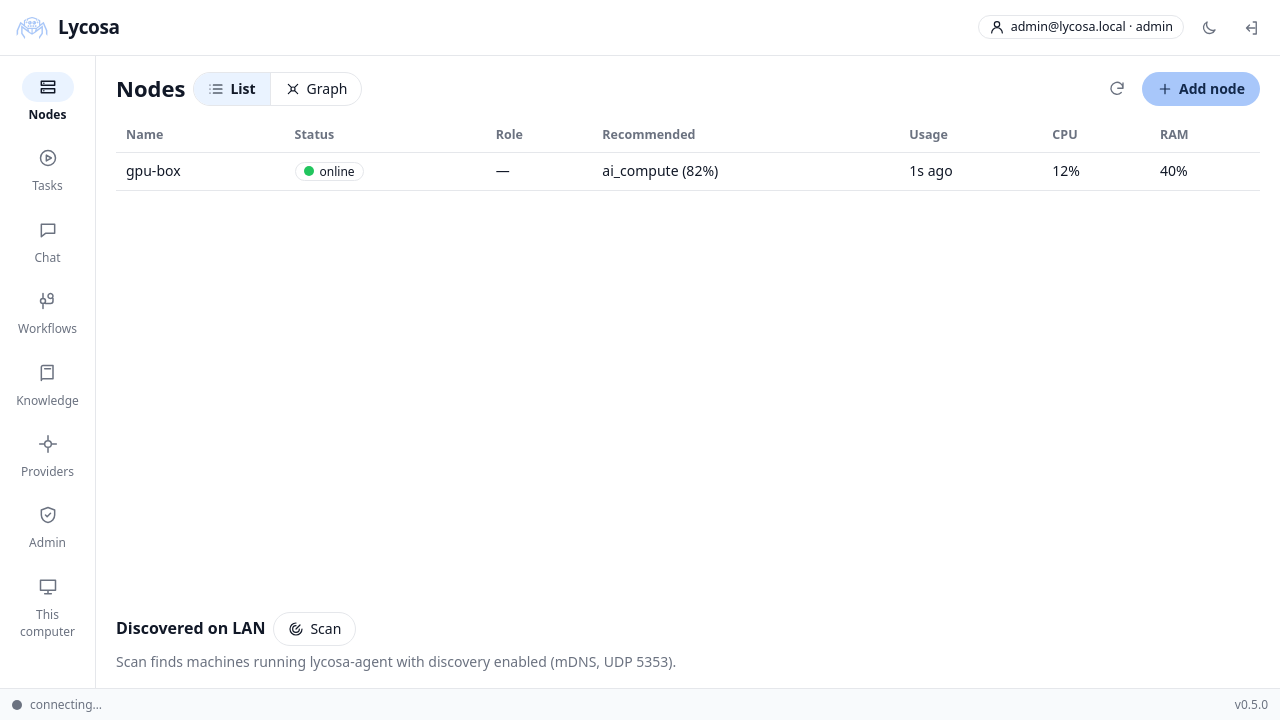
Scenario: nodes › deletes a node after confirmation (admin only)
The width and height of the screenshot is (1280, 720).
Click the text "gpu-box". click: (200, 172)
box: [116, 153, 284, 190]
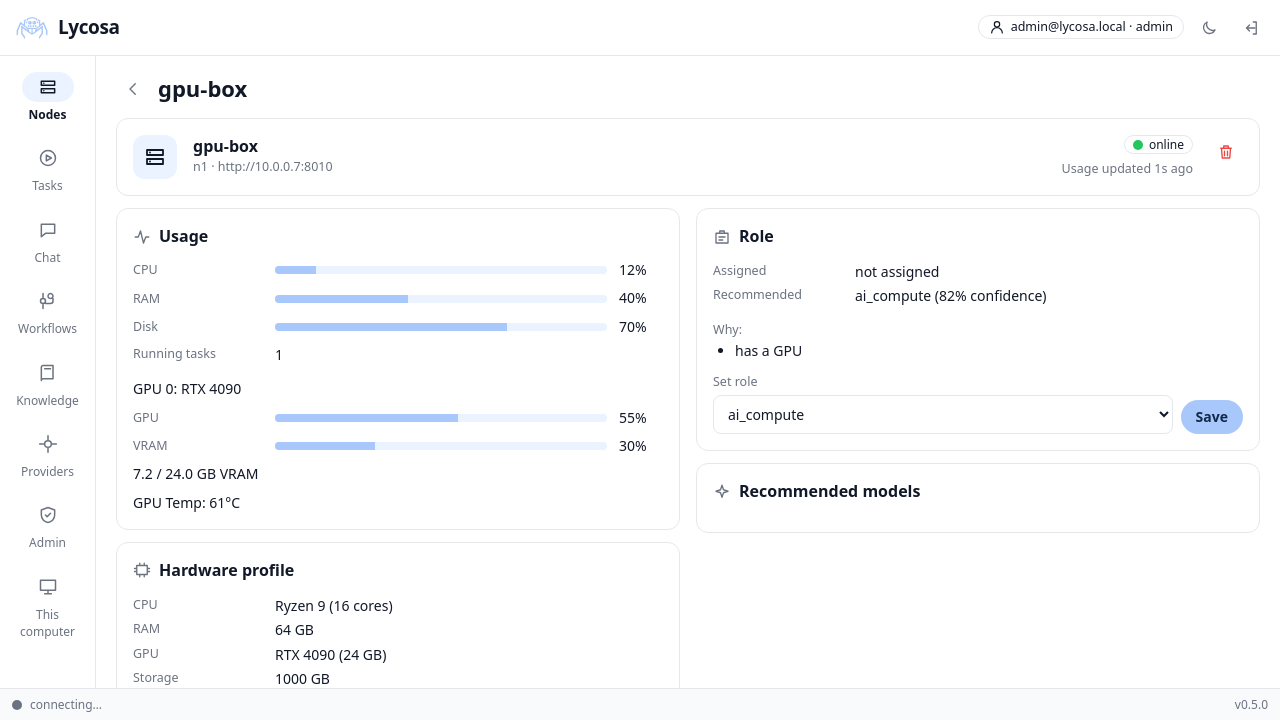
Click the button named "Delete node". click: (1226, 152)
box: [1209, 135, 1243, 169]
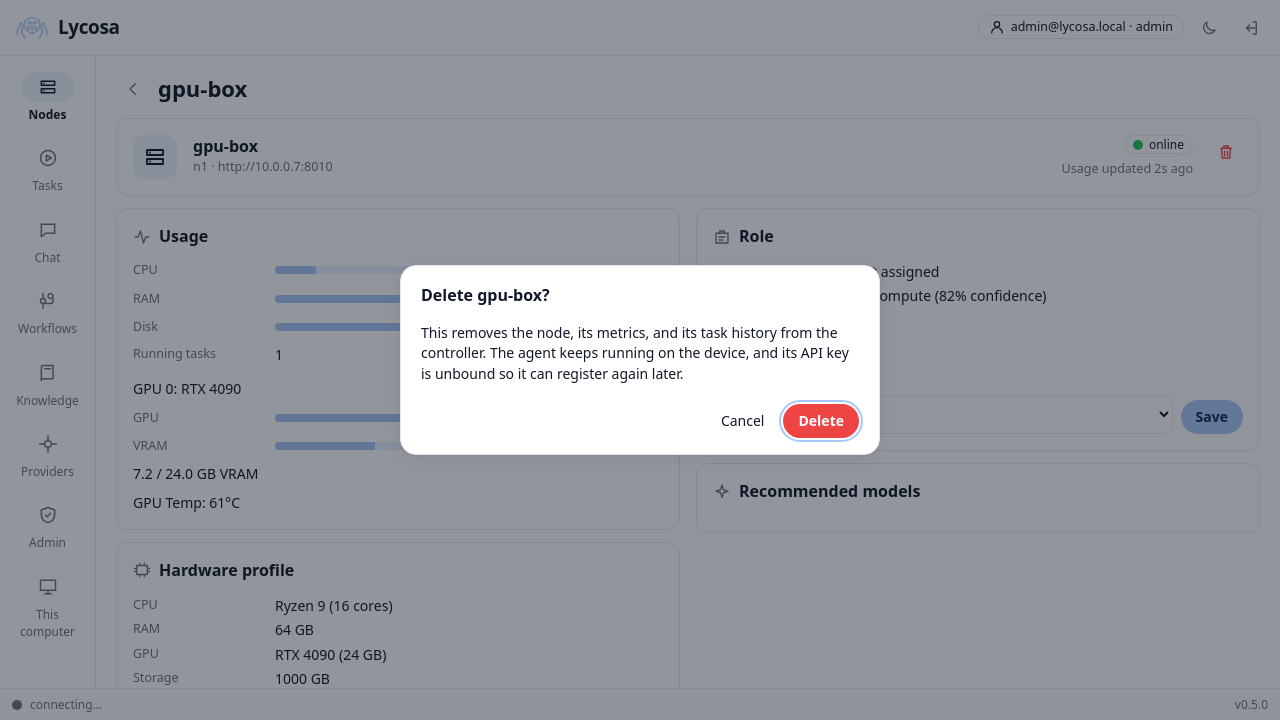
Result: the dialog "Delete gpu-box?" is shown at [400, 265, 880, 455]
Click the button "Delete". click: (821, 421)
box: [784, 404, 859, 438]
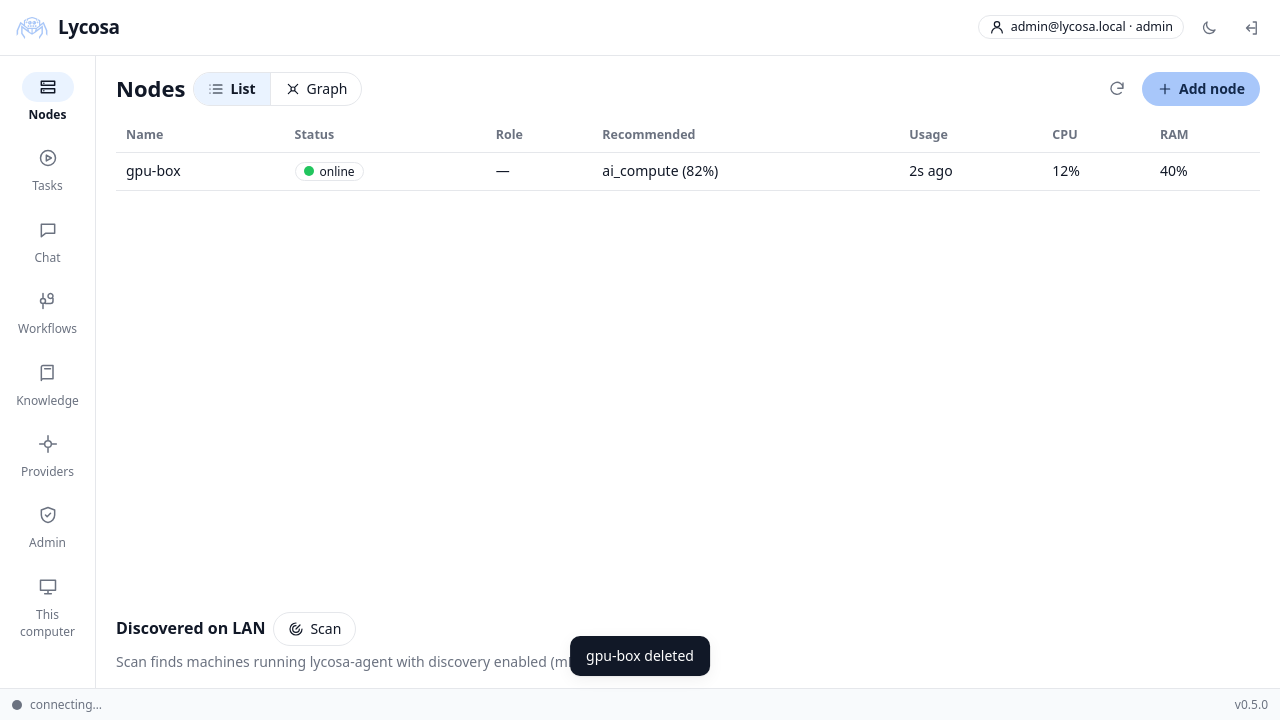
Result: the text "gpu-box deleted" is shown at [570, 636, 710, 676]
